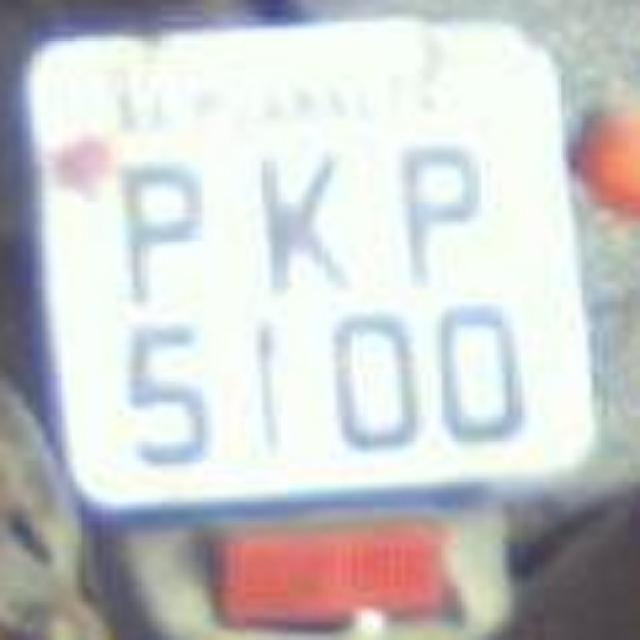0: (412, 288, 548, 468), (308, 292, 432, 476)
1: (212, 300, 320, 480)
5: (91, 292, 224, 476)
P: (388, 124, 512, 308), (108, 124, 224, 311)
